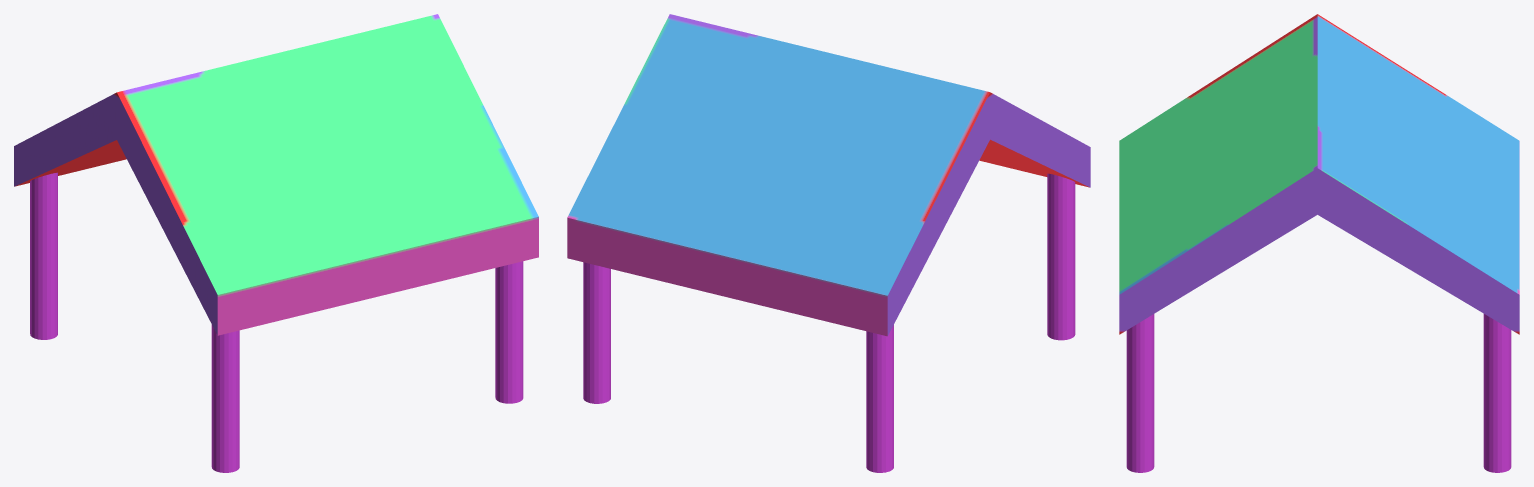
Rendered from depotWide.fbx.
The picture shows the model from 3 angles, left to right: view 1: azimuth 30°, elevation 25°; view 2: azimuth 150°, elevation 25°; view 3: azimuth 270°, elevation 25°; orthographic projection.
Visible parts, largest first — view 1: Cube.003; view 2: Cube.003; view 3: Cube.003.
Boxes of the visible parts, bbox=[...] form: Cube.003: bbox=[14, 14, 538, 472]; Cube.003: bbox=[567, 14, 1090, 472]; Cube.003: bbox=[1119, 14, 1519, 472].
Bounding box in the file's own units: 396 × 369 × 435.
